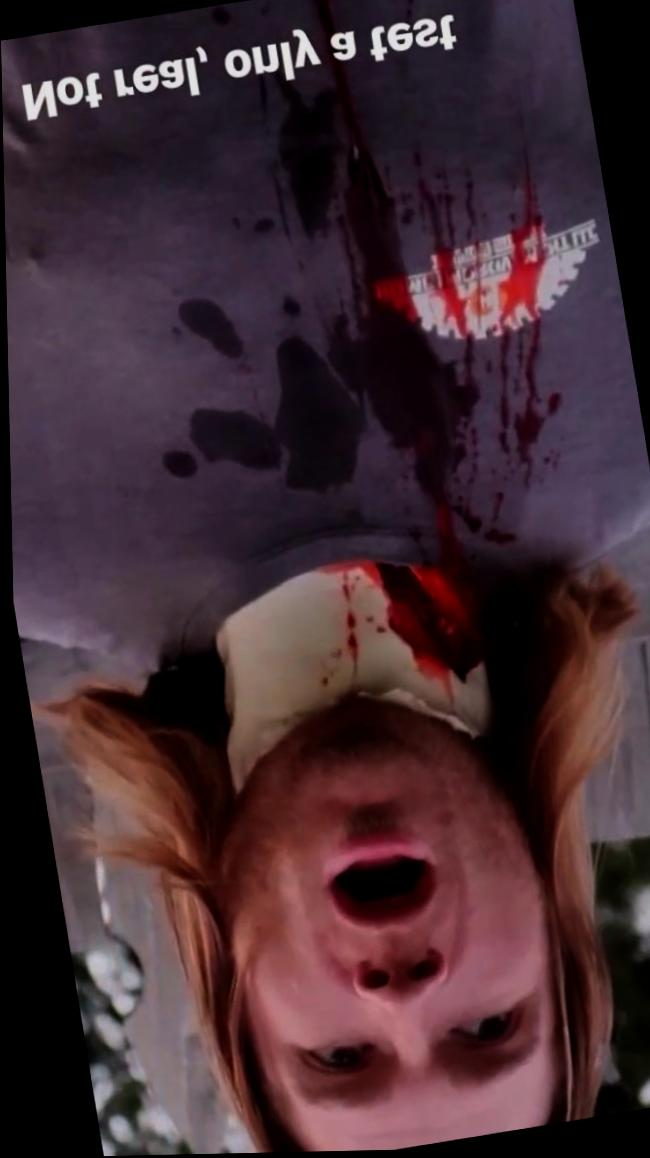Fire: (316, 0, 631, 684)
